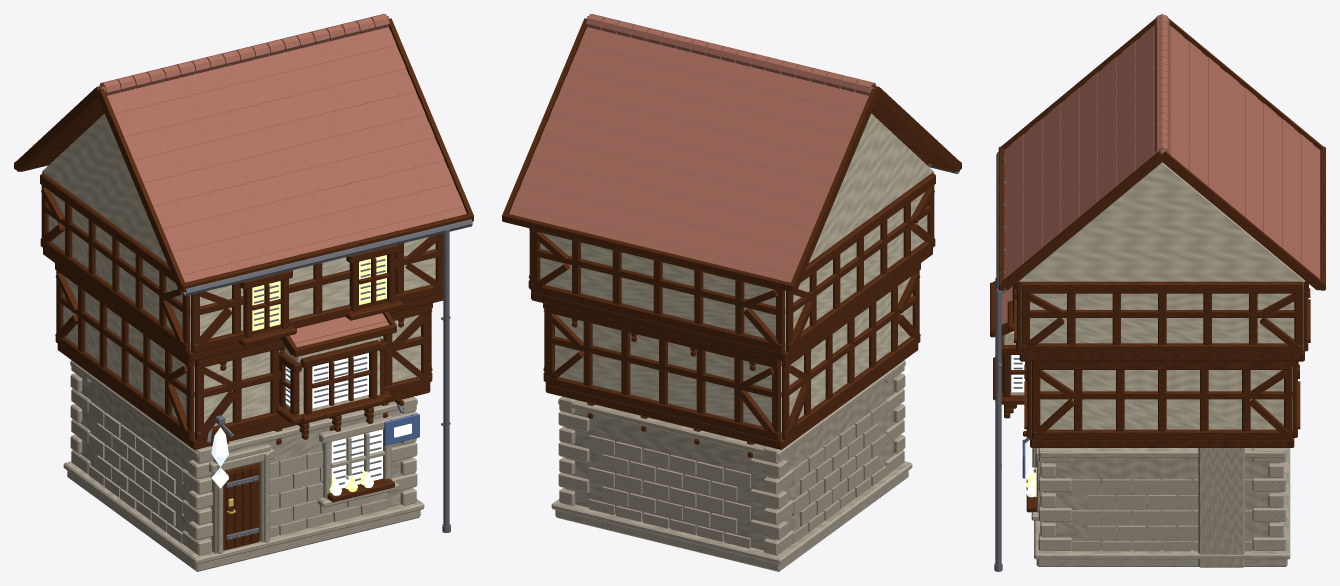
Rendered from fantasy-mmo-city-and-townsfolk-alchemist-shop-d5f14853__32732.glb.
The picture shows the model from 3 angles, left to right: view 1: azimuth 30°, elevation 25°; view 2: azimuth 150°, elevation 25°; view 3: azimuth 270°, elevation 25°; orthographic projection. The views are drawn at different scales.
Visible parts, largest first — view 1: alchemist-shop, door/timber, sign/blue, crystal; view 2: alchemist-shop; view 3: alchemist-shop.
Boxes of the visible parts, x1,y1,x2,y2 form: alchemist-shop: (14, 14, 473, 571); door/timber: (223, 463, 259, 550); sign/blue: (384, 413, 419, 445); crystal: (211, 427, 228, 488); alchemist-shop: (502, 14, 961, 571); alchemist-shop: (990, 14, 1325, 571).
Size of the model in its own units: 8.76 by 12.9 by 9.04.
Materials: 9 (5 with a texture image).
